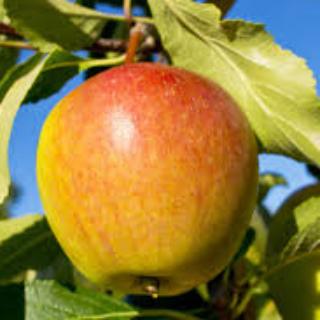tao: (30, 54, 269, 302)
